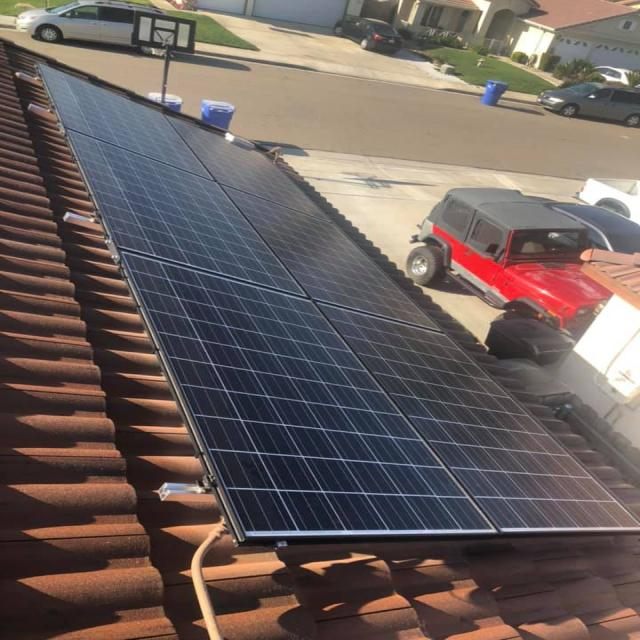clean-solar-panel: (37, 61, 637, 542)
